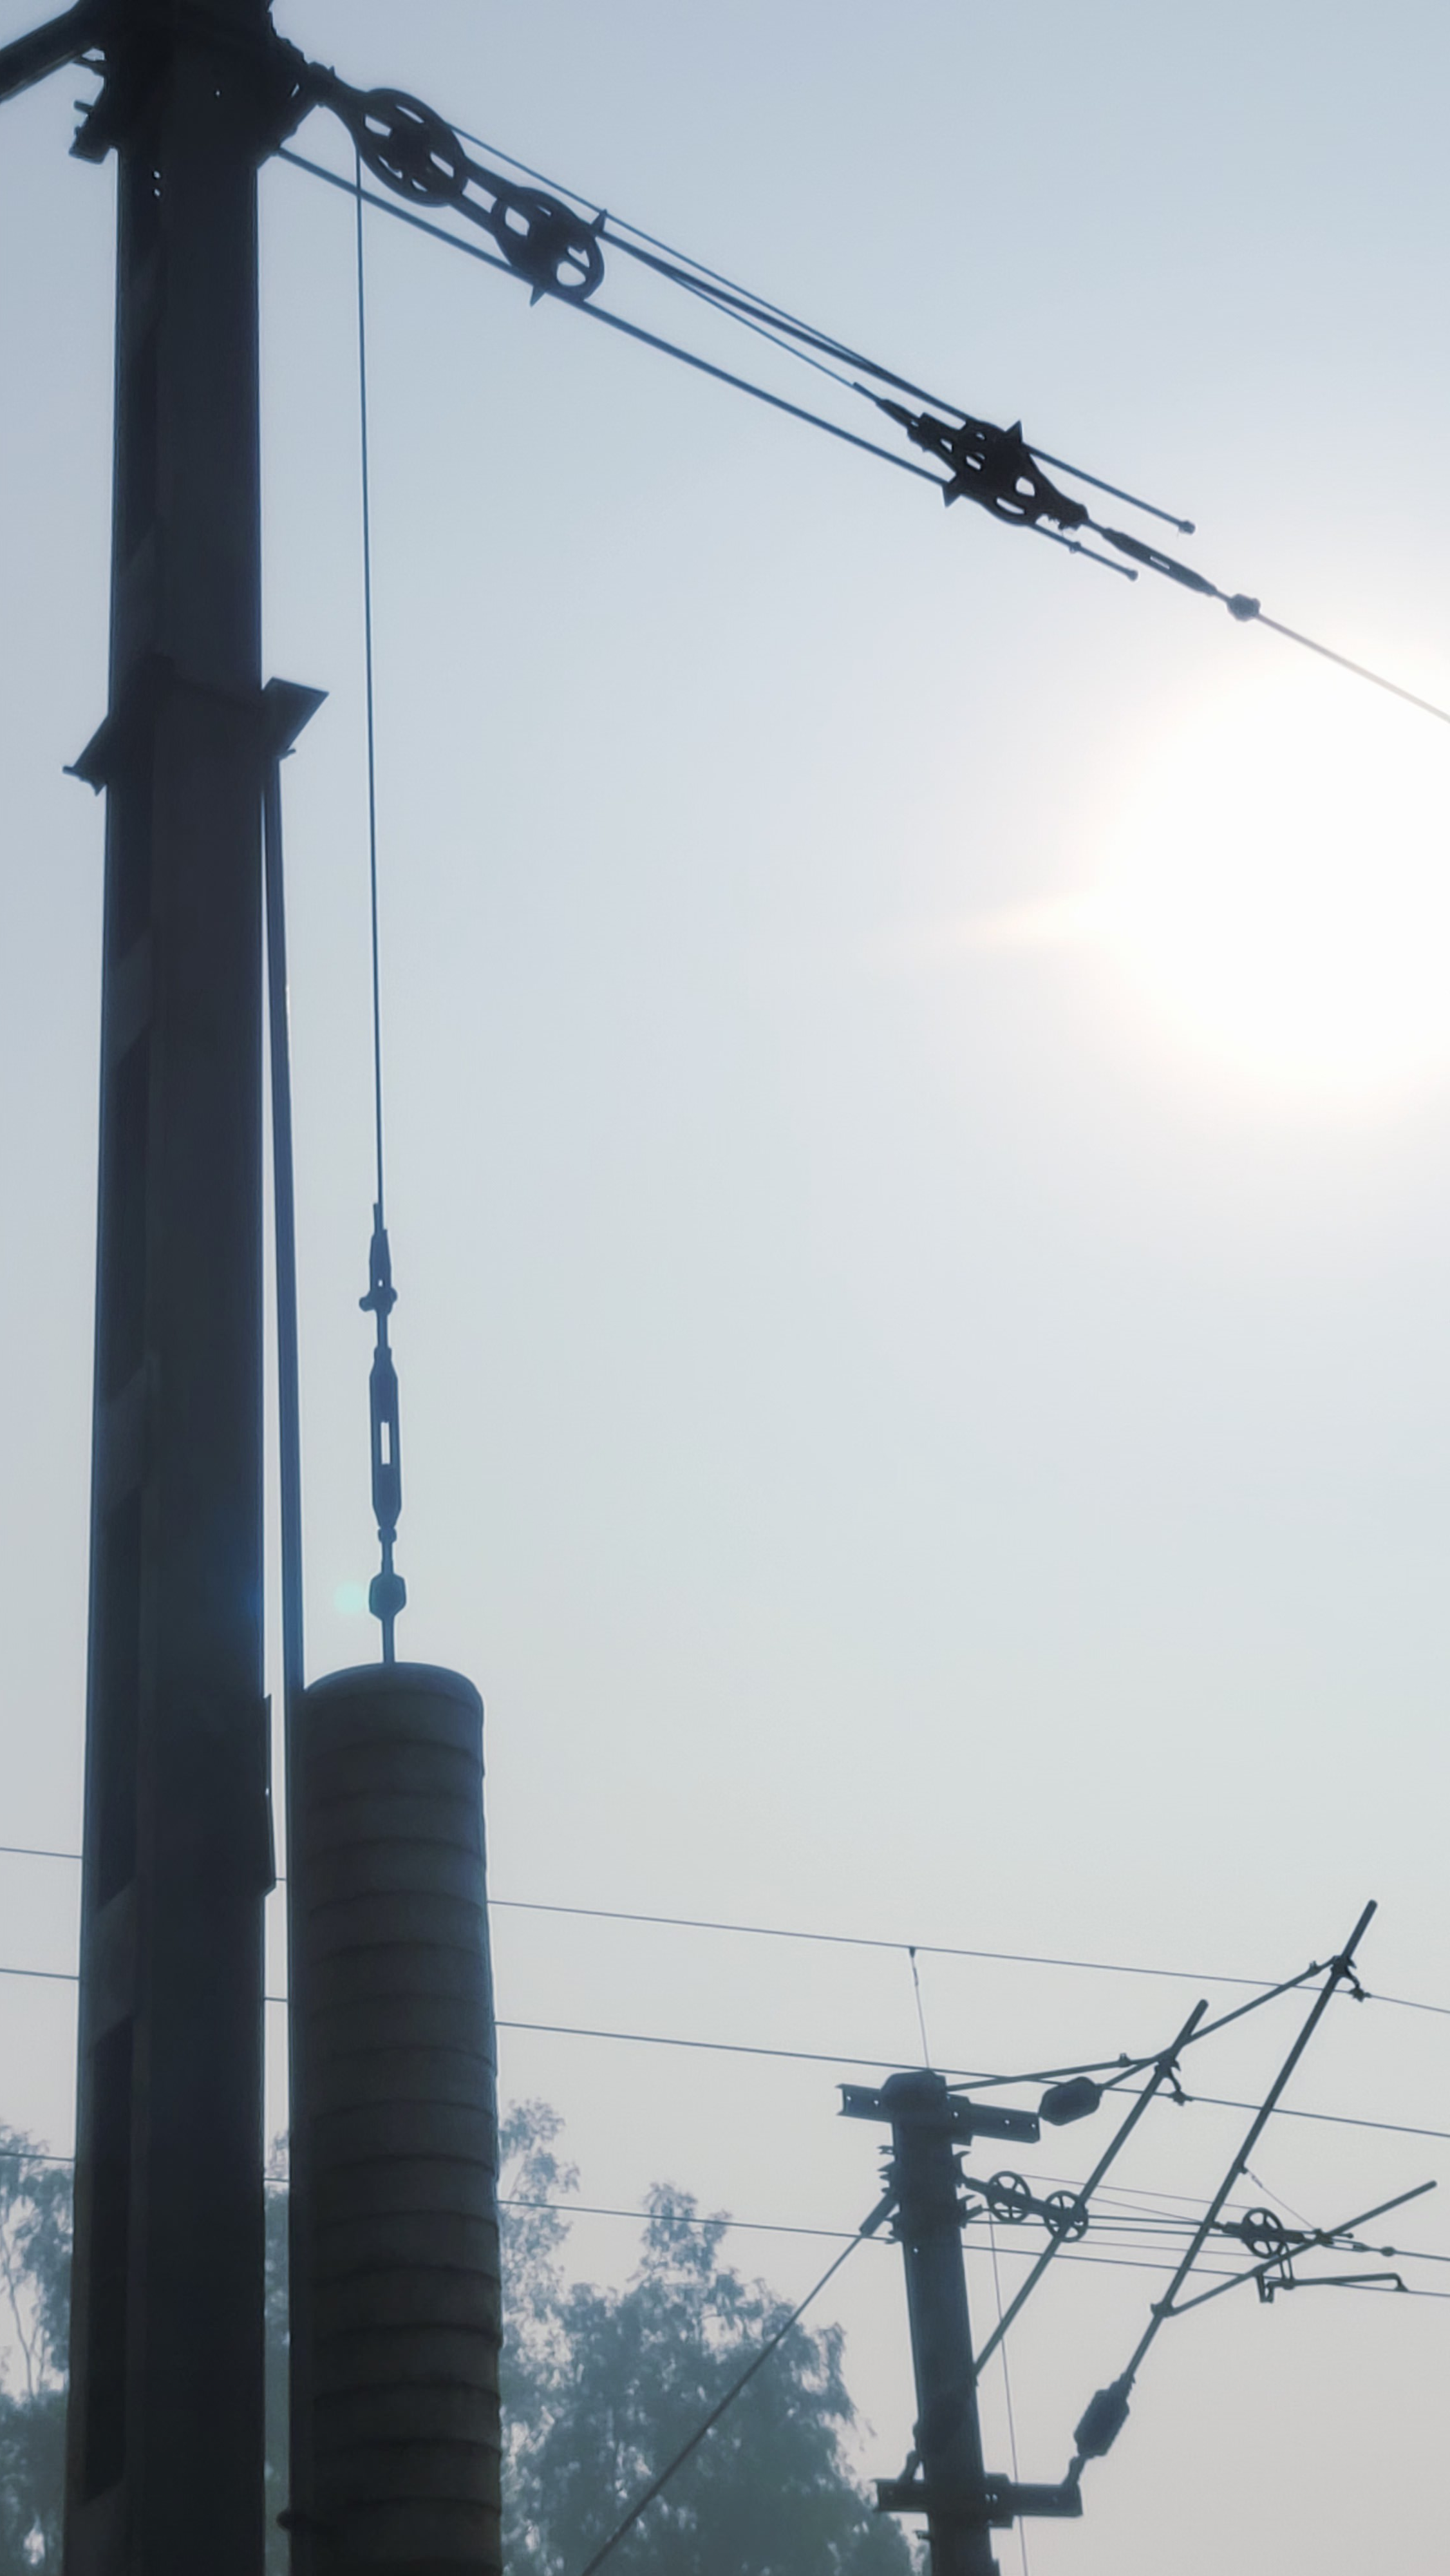counter weight: (283, 1640, 508, 2576)
pulley: (350, 32, 483, 246), (950, 389, 1065, 543), (508, 157, 617, 308)
